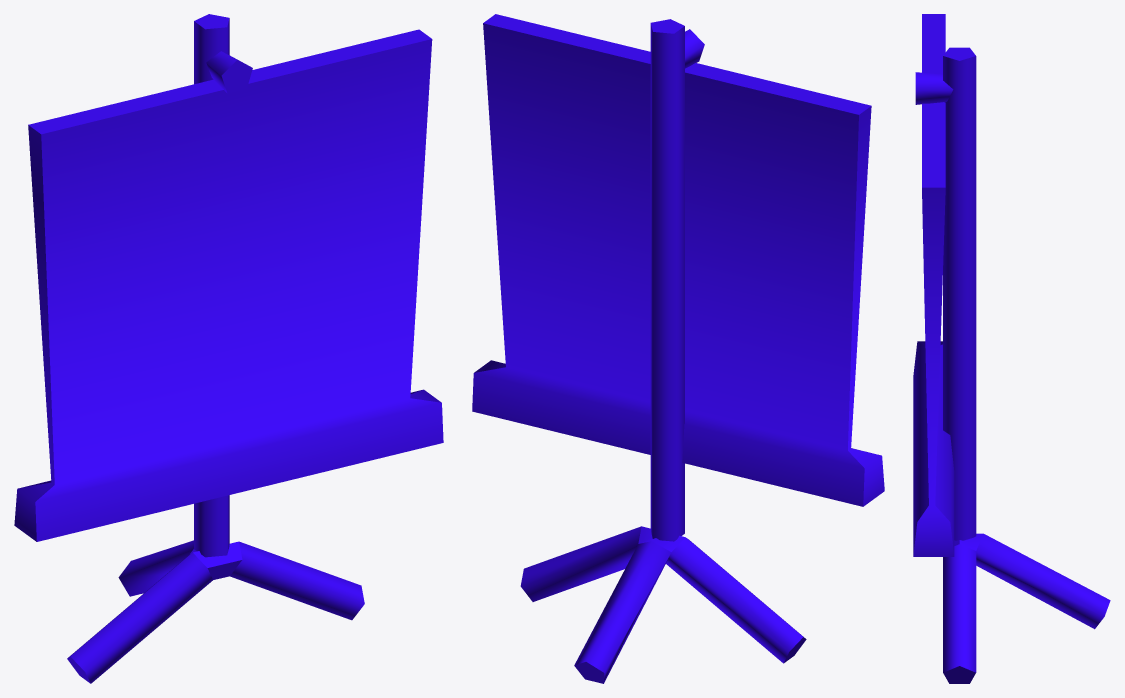
Rendered from office_pack_tripodProjectorScreen_1_meshCollider.fbx.
3 renders of one model, left to right at view 1: azimuth 30°, elevation 25°; view 2: azimuth 150°, elevation 25°; view 3: azimuth 270°, elevation 25°, orthographic. The views are drawn at different scales.
Parts seen in each view (by area): view 1: office_pack_tripodProjectorScreen_1_meshCollider; view 2: office_pack_tripodProjectorScreen_1_meshCollider; view 3: office_pack_tripodProjectorScreen_1_meshCollider.
Part boxes in pixels (bbox=[...]): office_pack_tripodProjectorScreen_1_meshCollider: bbox=[14, 14, 443, 683]; office_pack_tripodProjectorScreen_1_meshCollider: bbox=[472, 14, 884, 683]; office_pack_tripodProjectorScreen_1_meshCollider: bbox=[913, 14, 1110, 683].
Bounding box in the file's own units: 82.9 × 122 × 38.19.
